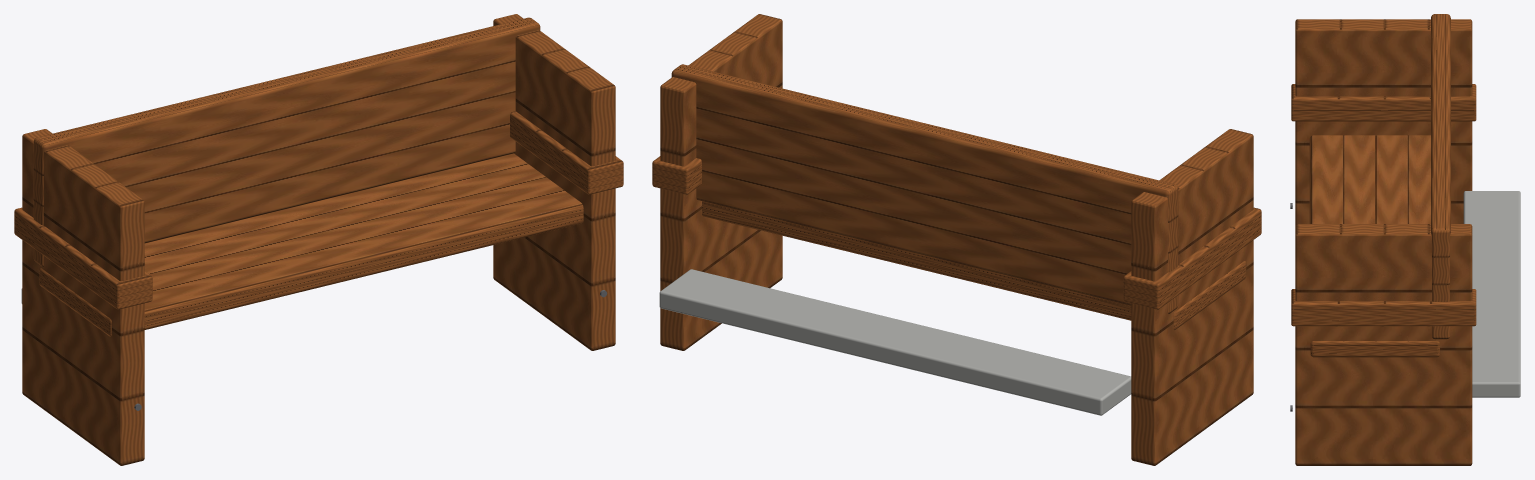
The model's file is prison-complex-builder-chapel-pew-7d4832c1__25672.glb.
The picture shows the model from 3 angles, left to right: view 1: azimuth 30°, elevation 25°; view 2: azimuth 150°, elevation 25°; view 3: azimuth 270°, elevation 25°; orthographic projection. The views are drawn at different scales.
Visible parts, largest first — view 1: chapel-pew; view 2: chapel-pew; view 3: chapel-pew.
Part boxes in pixels (left/top/right/bottom): chapel-pew: left=14, top=14, right=623, bottom=465; chapel-pew: left=652, top=14, right=1261, bottom=465; chapel-pew: left=1290, top=14, right=1520, bottom=465.
Bounding box in the file's own units: 1.83 × 0.9201 × 0.8081.
4 materials, 1 textured.
